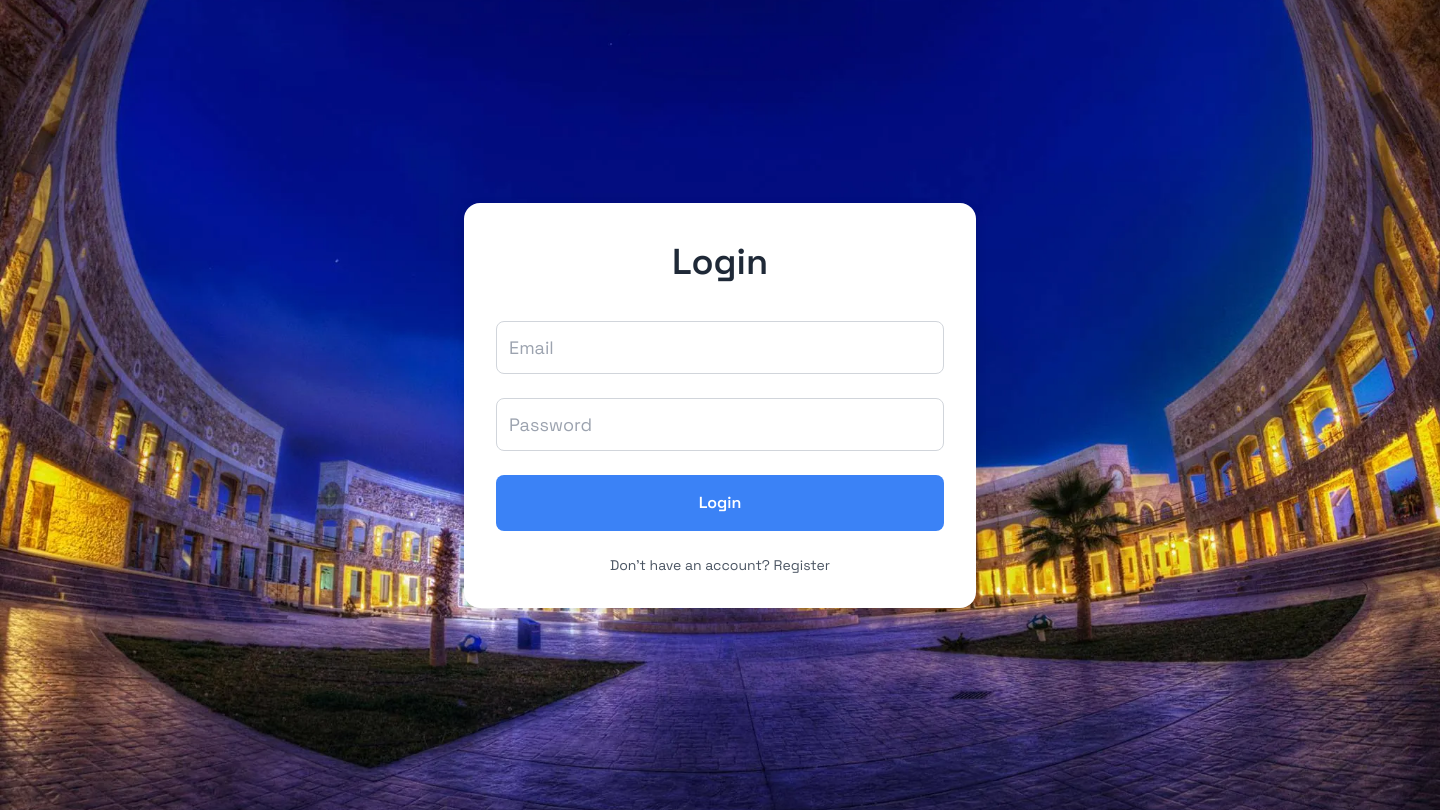
Test case: LoginForm › shows error when credentials are invalid
This screenshot has width=1440, height=810.
In the field with placeholder "Email": [720, 347] box x1=496 y1=320 x2=944 y2=374, type "wrong@example.com"
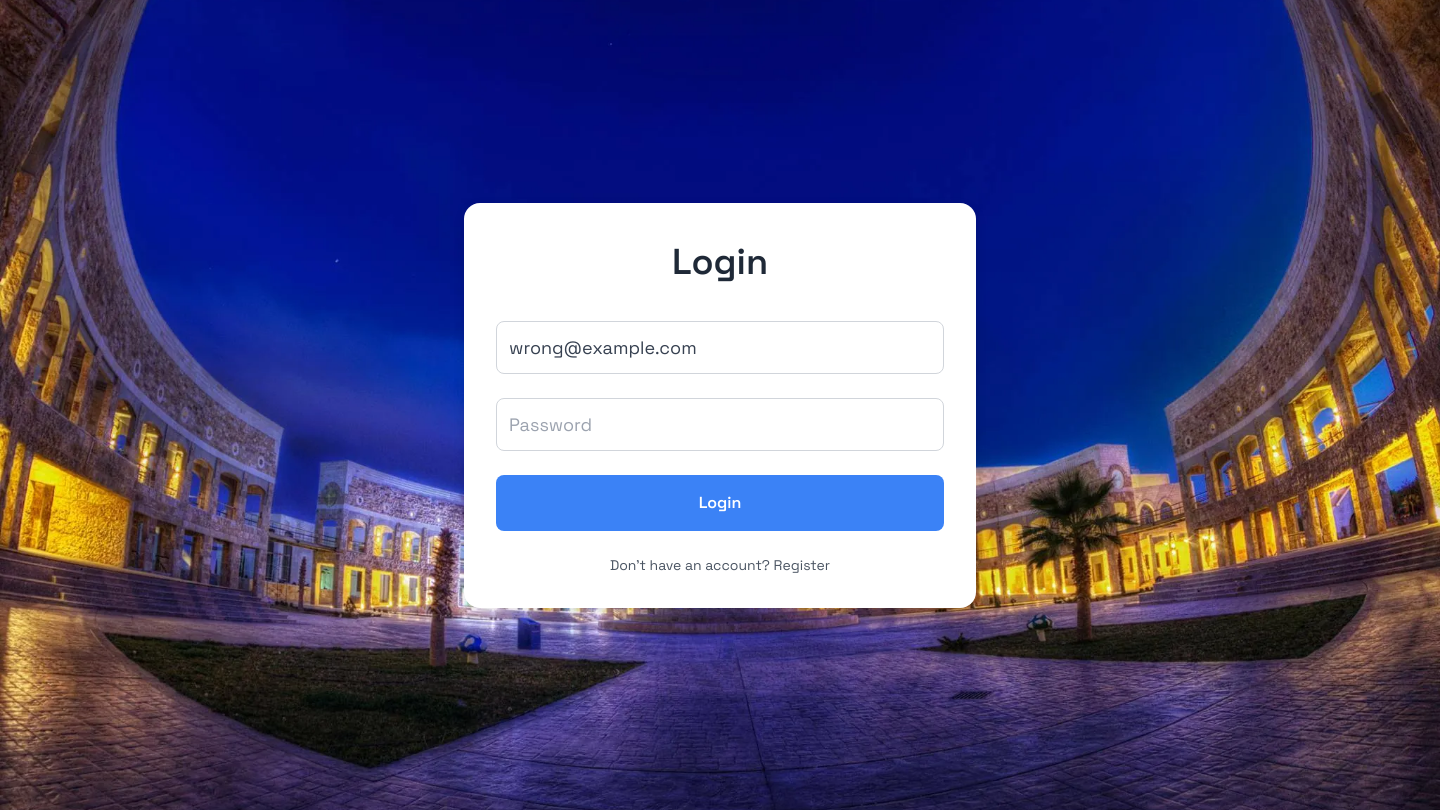
In the password field with placeholder "Password": [720, 424] box x1=496 y1=398 x2=944 y2=450, type "wrongpassword"
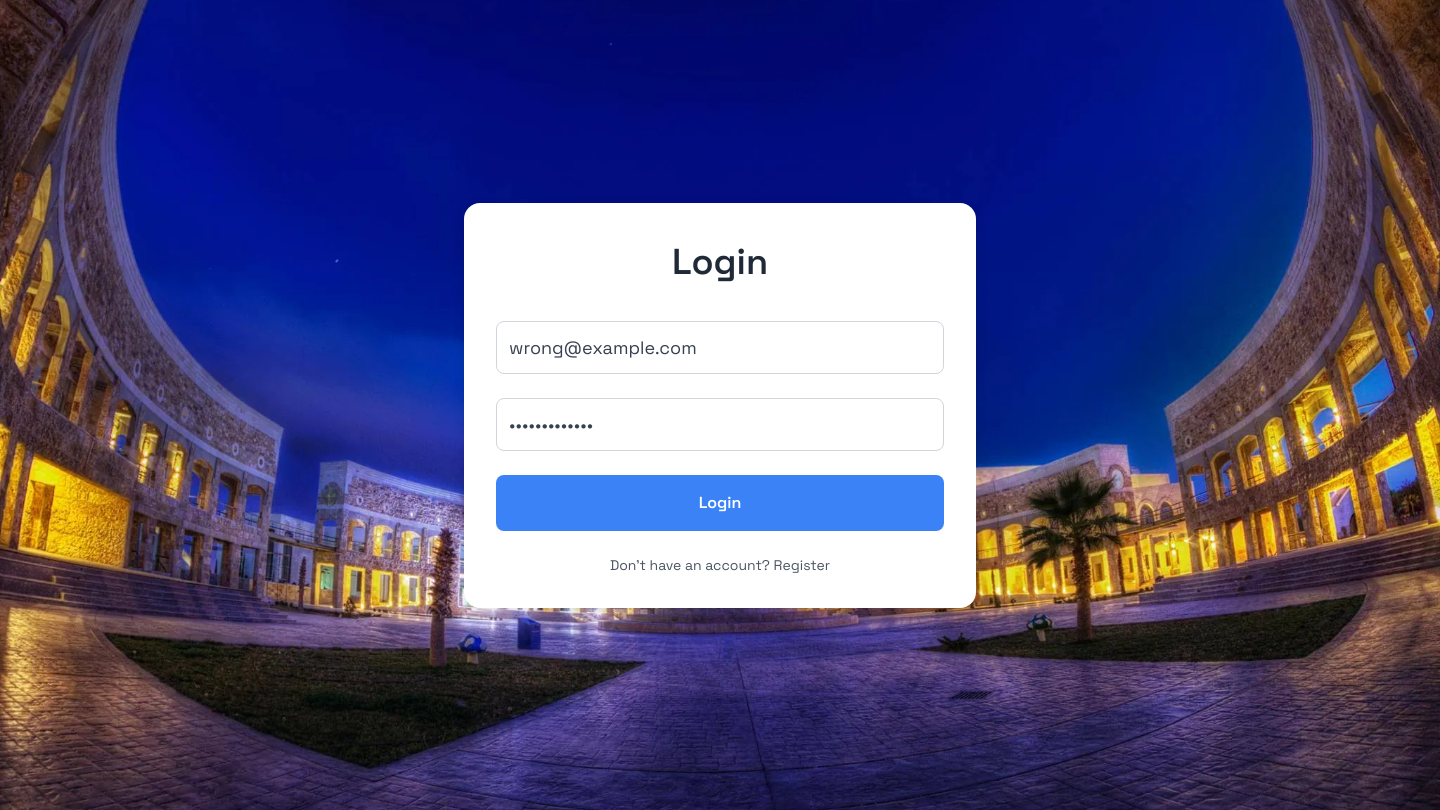
Click the button "Login": [720, 502] box x1=496 y1=474 x2=944 y2=530
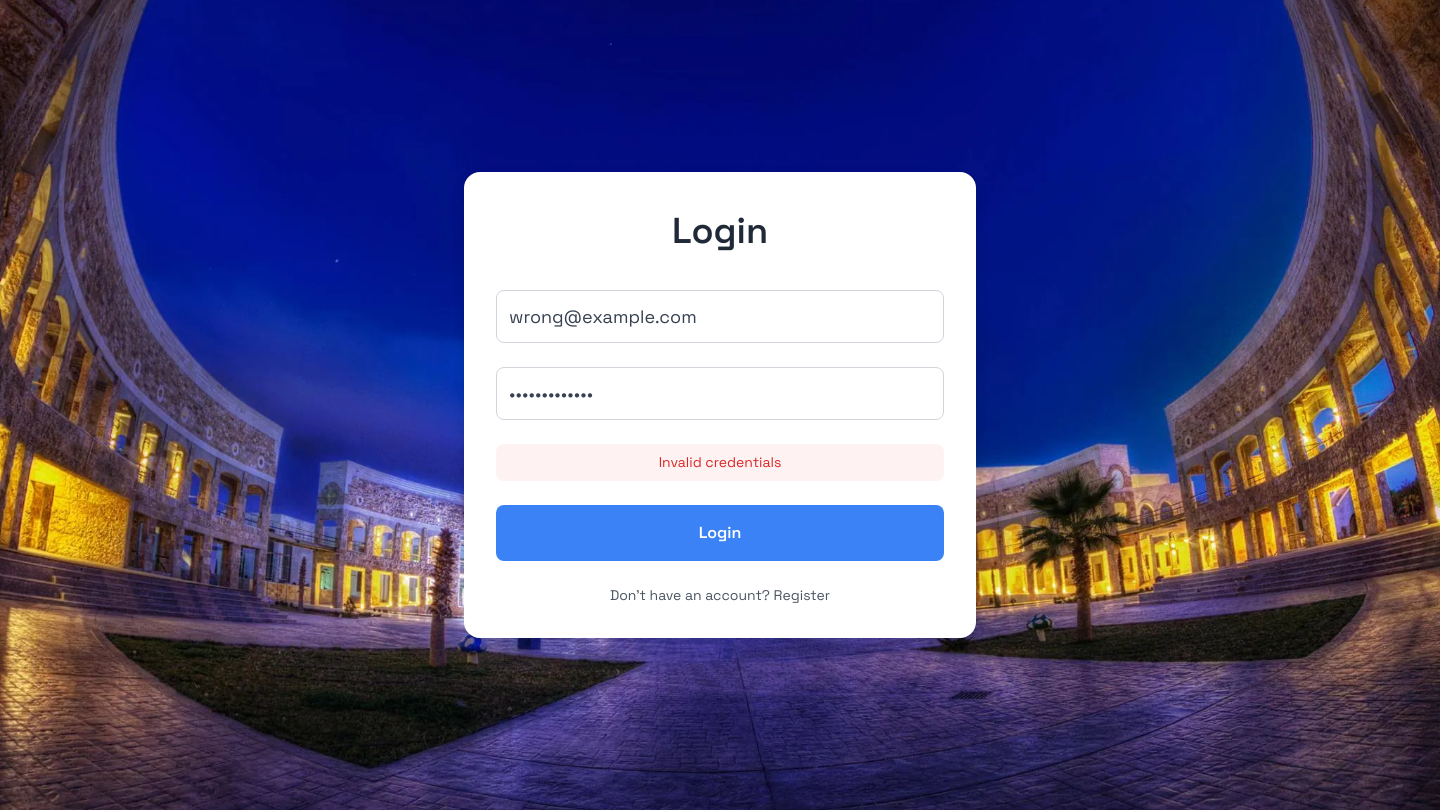
expect the text "Invalid credentials" is shown: met, box x1=496 y1=444 x2=944 y2=481
